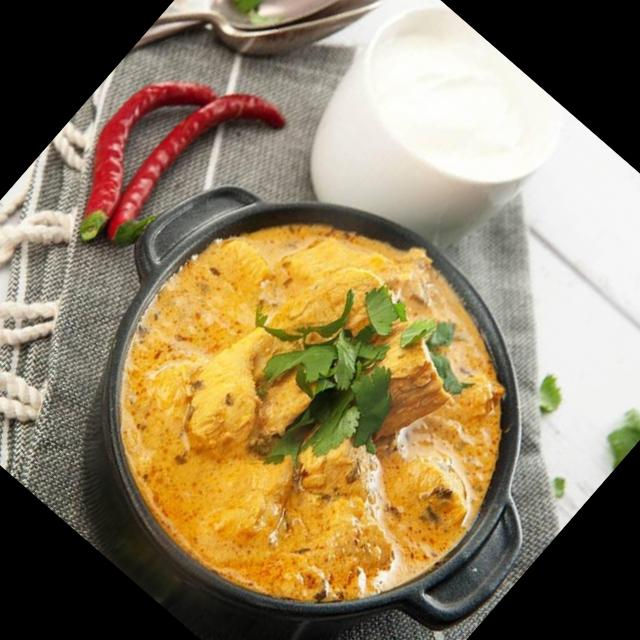chicken: (59, 150, 558, 640)
